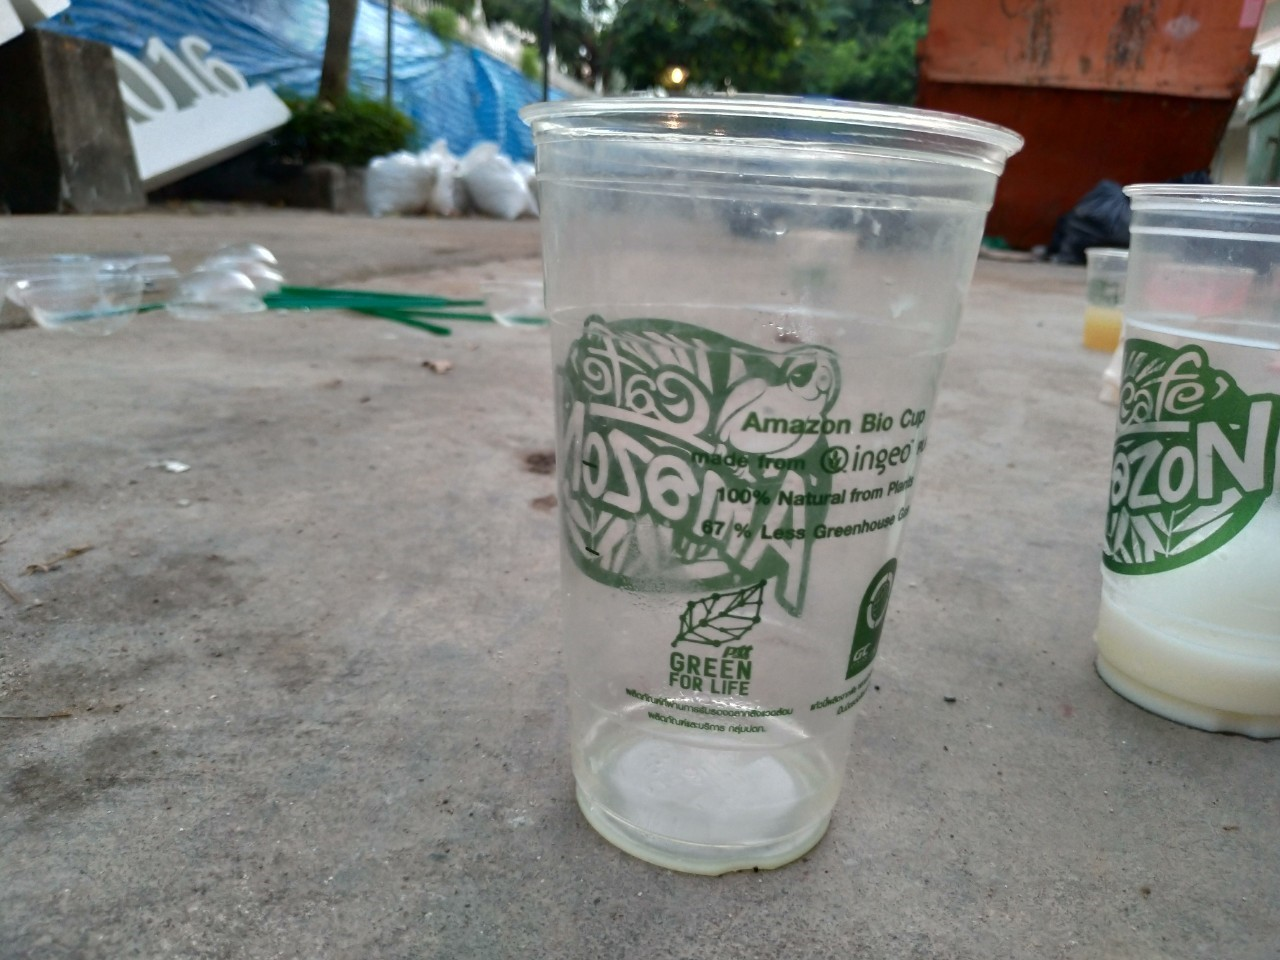PlasticCup: (508, 86, 1020, 884), (1093, 178, 1280, 734)
